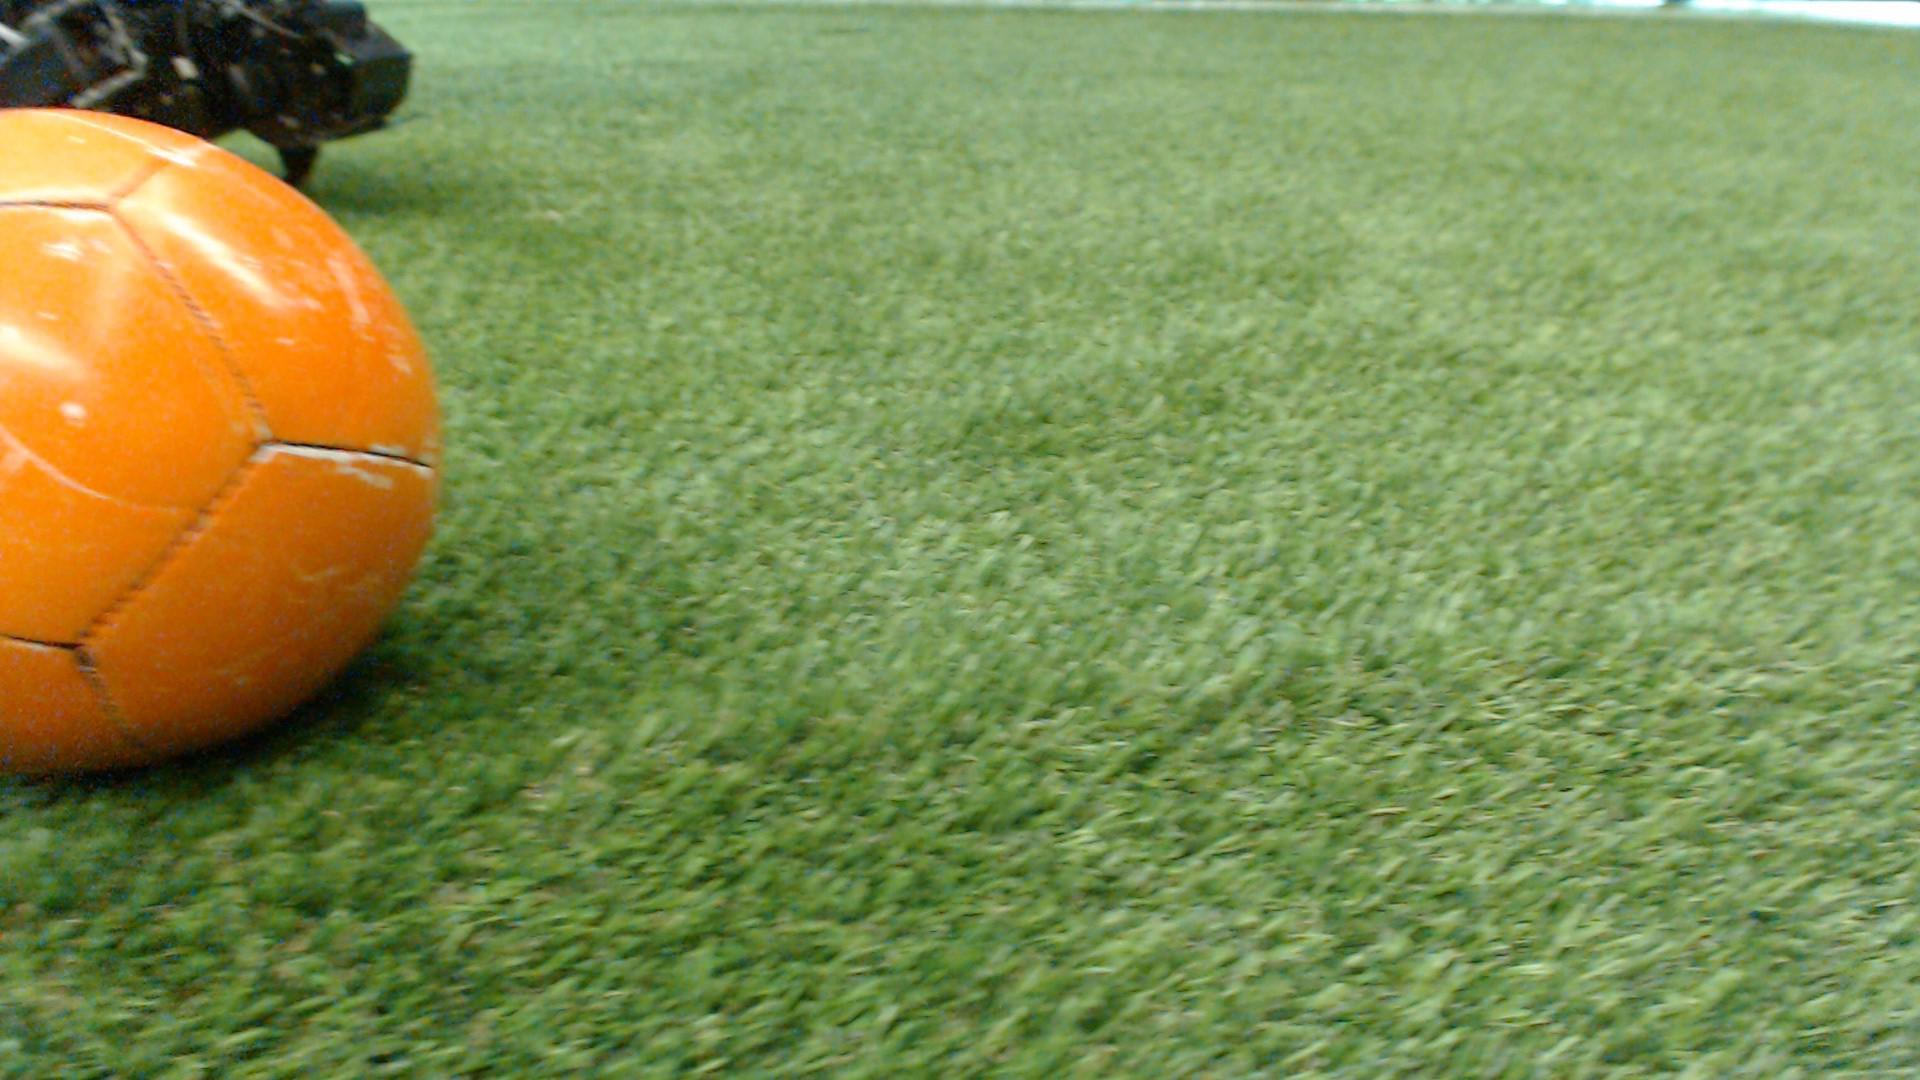bola: (0, 76, 476, 846)
